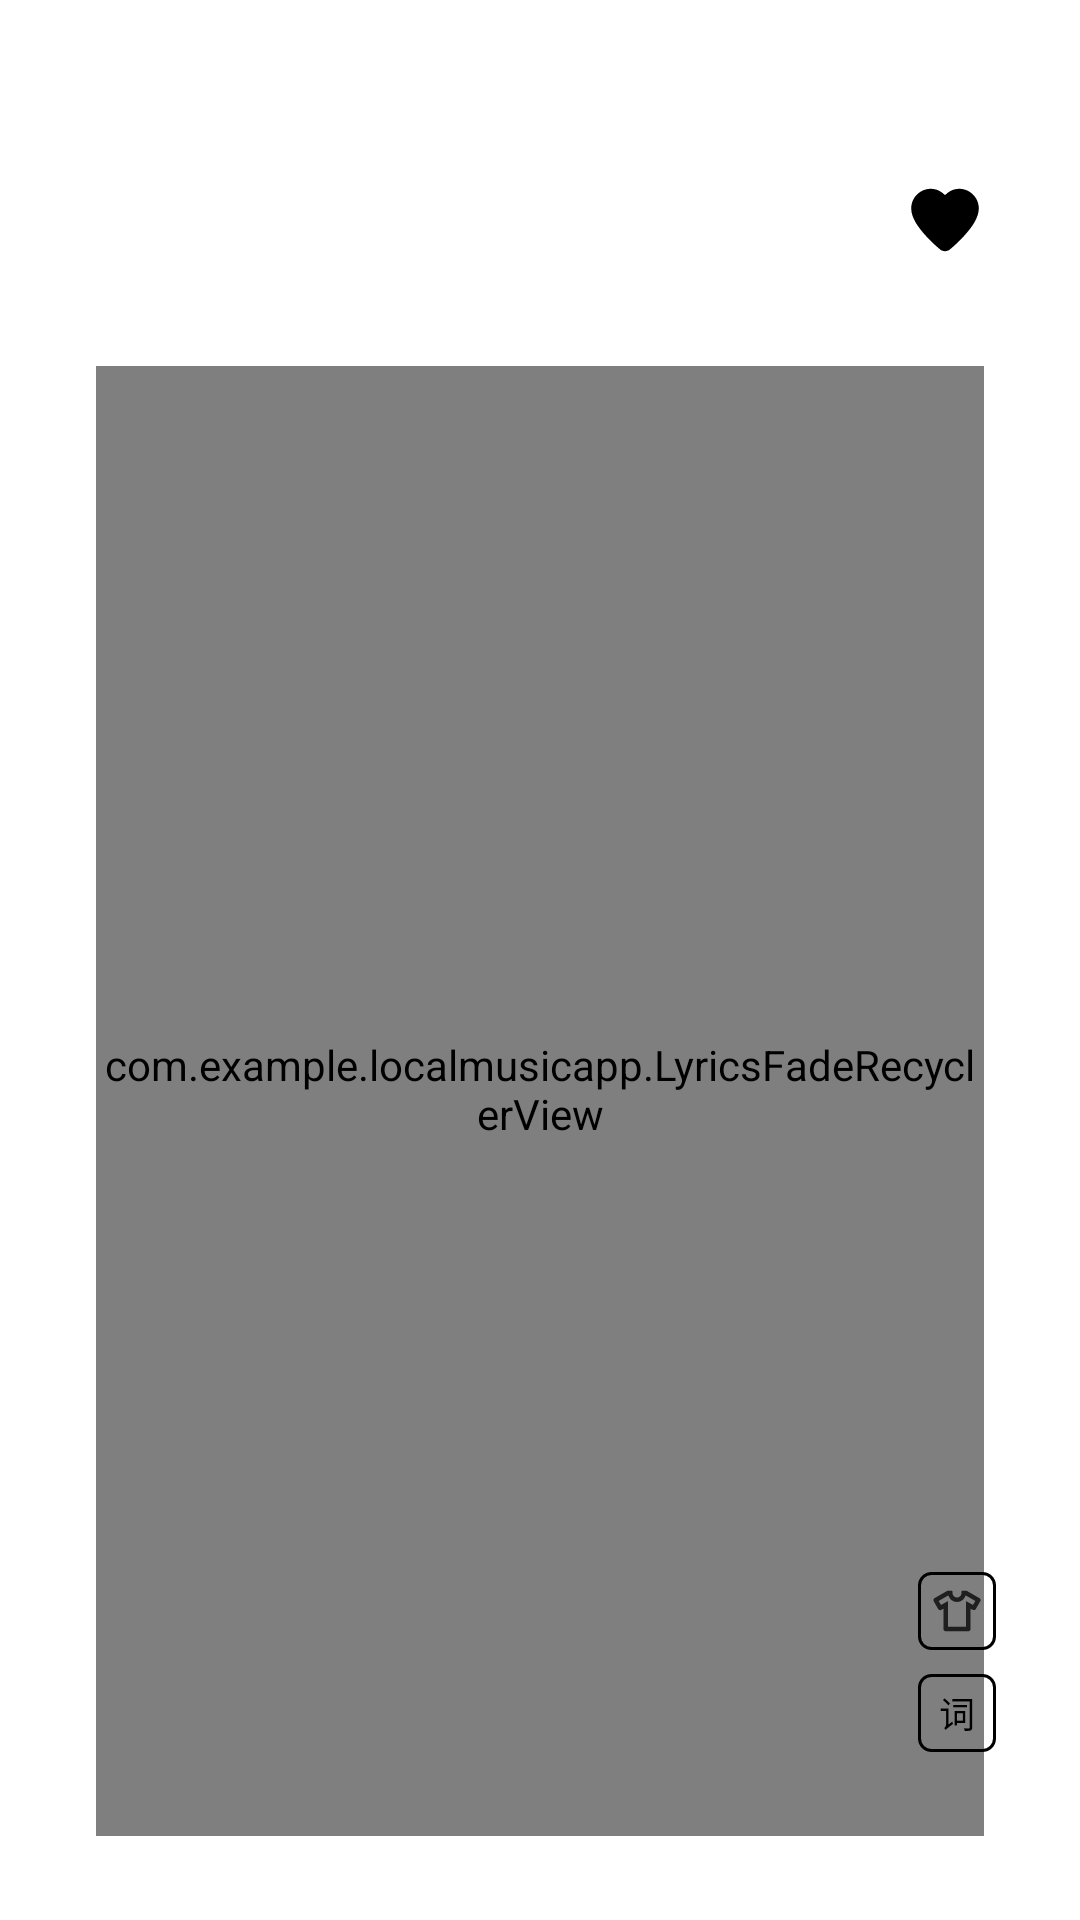

Icon click points for this 1080 × 1920 phone screenshot, format [x,y]:
收藏: [945,220]
装扮设置: [957,1611]
